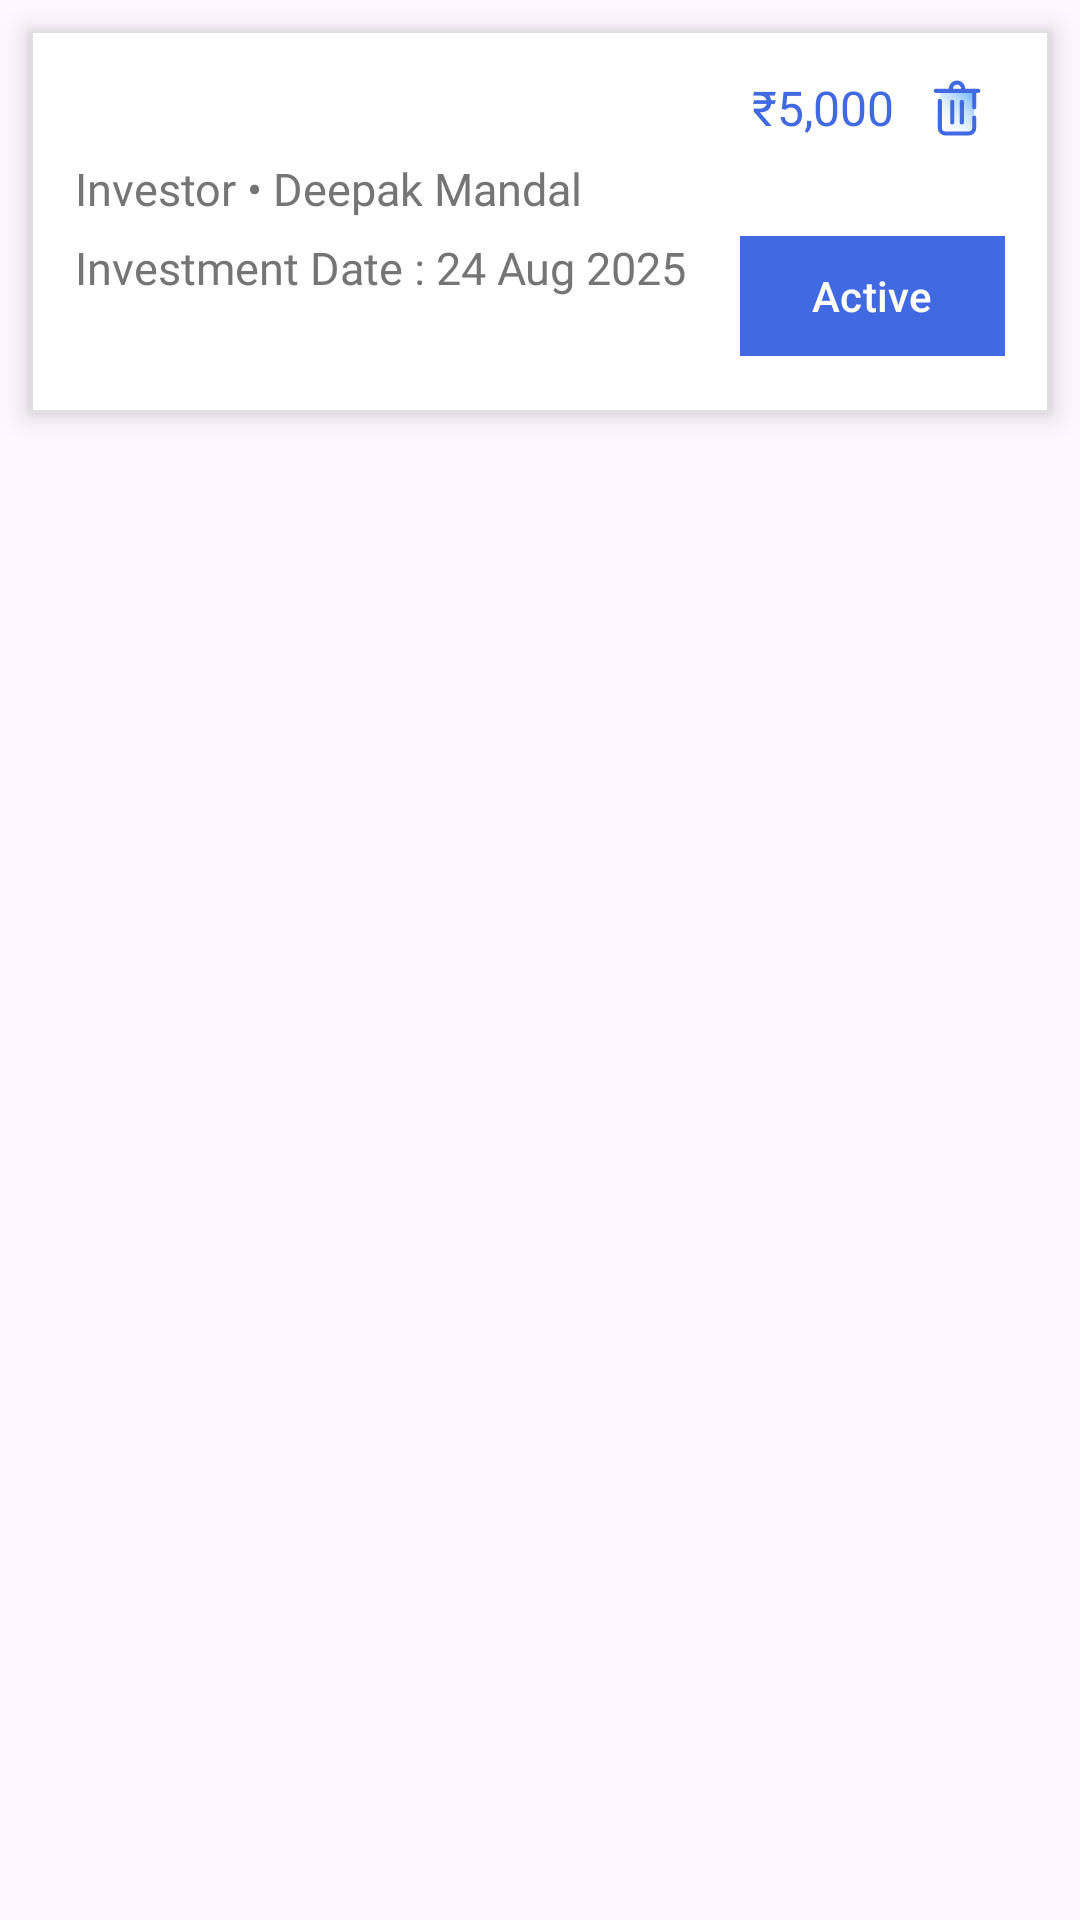

Icon click points for this 1080px x 1920px phone screenshot, format [x,y]:
delete: [957,108]
